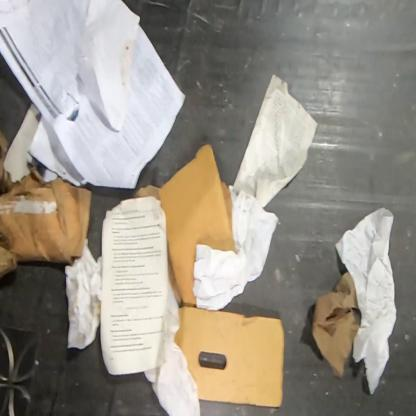cardboard: (133, 141, 236, 306), (0, 125, 93, 278), (172, 306, 284, 407)
metal: (0, 322, 44, 415)
